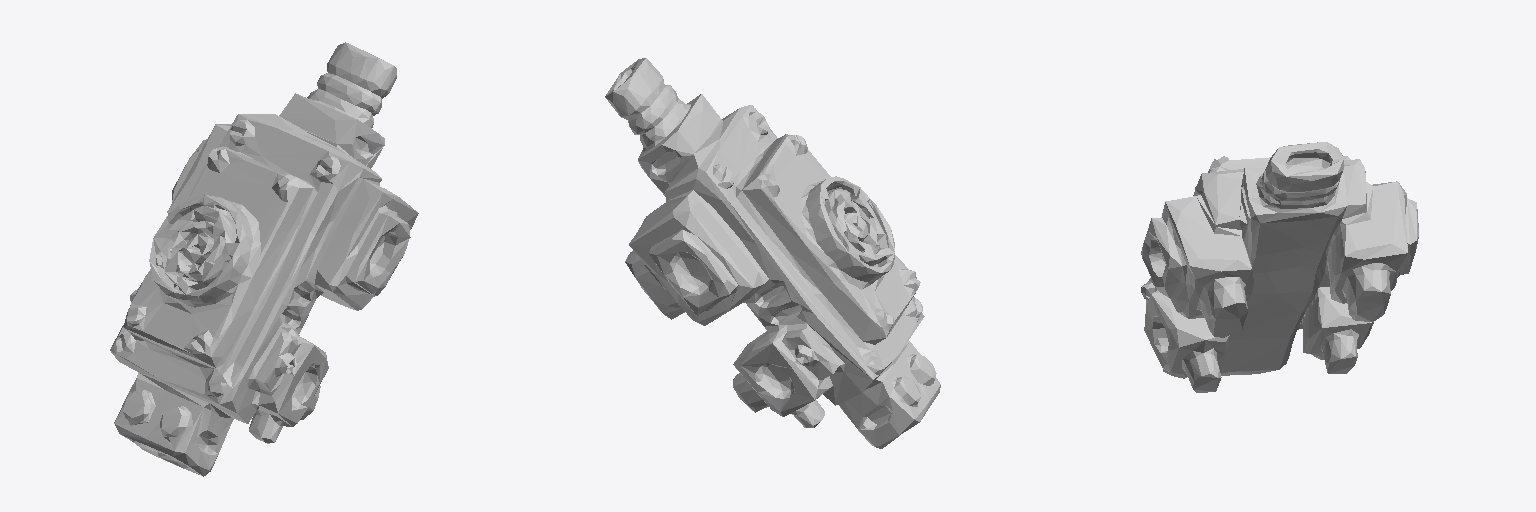
The model's file is Large wrist device.OBJ.
The picture shows the model from 3 angles: view 1: azimuth 30°, elevation 25°; view 2: azimuth 150°, elevation 25°; view 3: azimuth 270°, elevation 25°; orthographic projection.
Visible parts, largest first — view 1: Group51567; view 2: Group51567; view 3: Group51567.
Part boxes in pixels (left/top/right/bottom): Group51567: left=110, top=42, right=418, bottom=476; Group51567: left=605, top=58, right=940, bottom=448; Group51567: left=1141, top=142, right=1418, bottom=392.
Bounding box in the file's own units: 34.28 × 38.43 × 28.62.